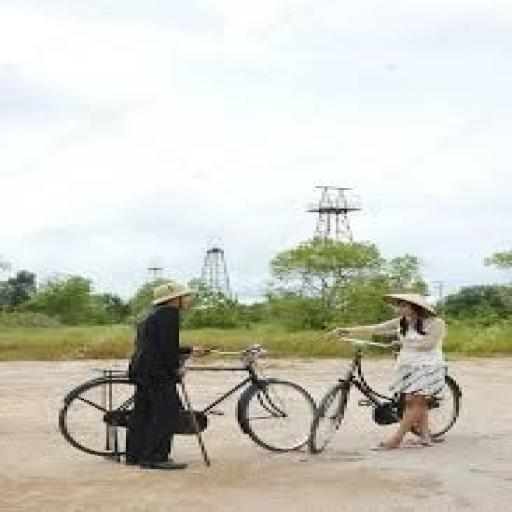cycling: (325, 290, 456, 452), (118, 279, 218, 473)
